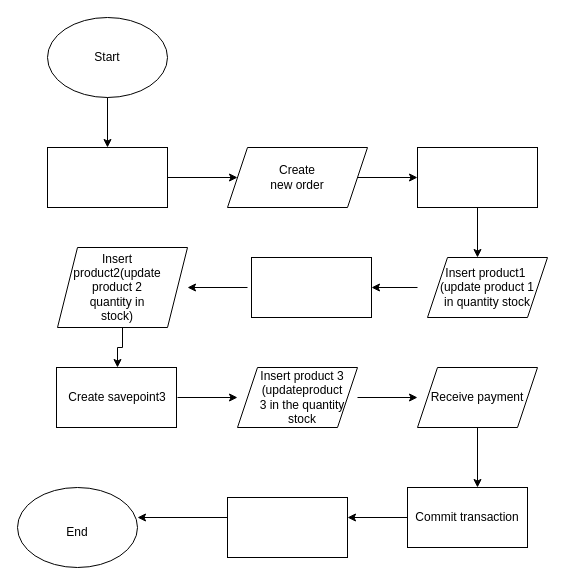
Some shapes in this 565 by 585 pixel diagram are drawn without their labels. The shapes that lost their labels are listed below. From the top down, each one's centre as x and y in pixels, then its label:
At (107,177): "Calculate latest order No.".
At (477,177): "Create savepoint1".
At (311,287): "Create savepoint2".
At (287,527): "commit effects of transaction".
